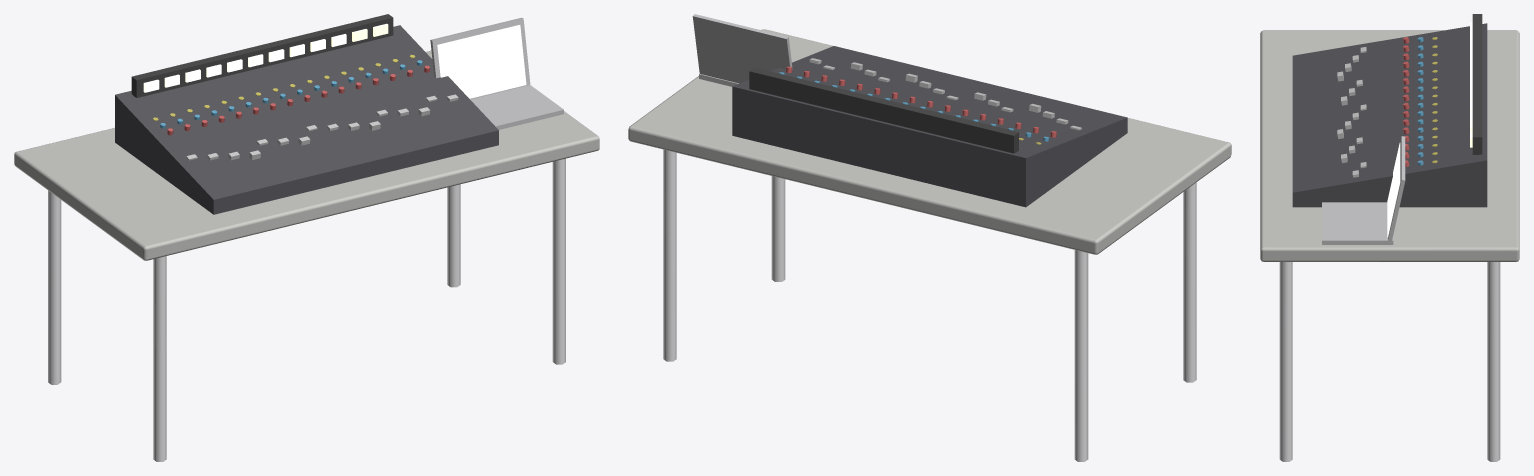
File: mixing_desk.glb
3 renders of one model, left to right at view 1: azimuth 30°, elevation 25°; view 2: azimuth 150°, elevation 25°; view 3: azimuth 270°, elevation 25°, orthographic. The views are drawn at different scales.
Parts seen in each view (by area): view 1: mixing_desk_std, mixing_desk_metal, mixing_desk_emit; view 2: mixing_desk_std, mixing_desk_metal; view 3: mixing_desk_std, mixing_desk_metal, mixing_desk_emit.
Part boxes in pixels (x1=…): mixing_desk_std: x1=14, y1=14, x2=599, y2=260; mixing_desk_metal: x1=48, y1=17, x2=565, y2=461; mixing_desk_emit: x1=143, y1=23, x2=526, y2=98; mixing_desk_std: x1=628, y1=29, x2=1231, y2=254; mixing_desk_metal: x1=663, y1=14, x2=1196, y2=461; mixing_desk_std: x1=1260, y1=14, x2=1519, y2=261; mixing_desk_metal: x1=1279, y1=136, x2=1500, y2=461; mixing_desk_emit: x1=1387, y1=22, x2=1472, y2=237.
Bounding box in the file's own units: 1.6 × 0.989 × 0.8.
